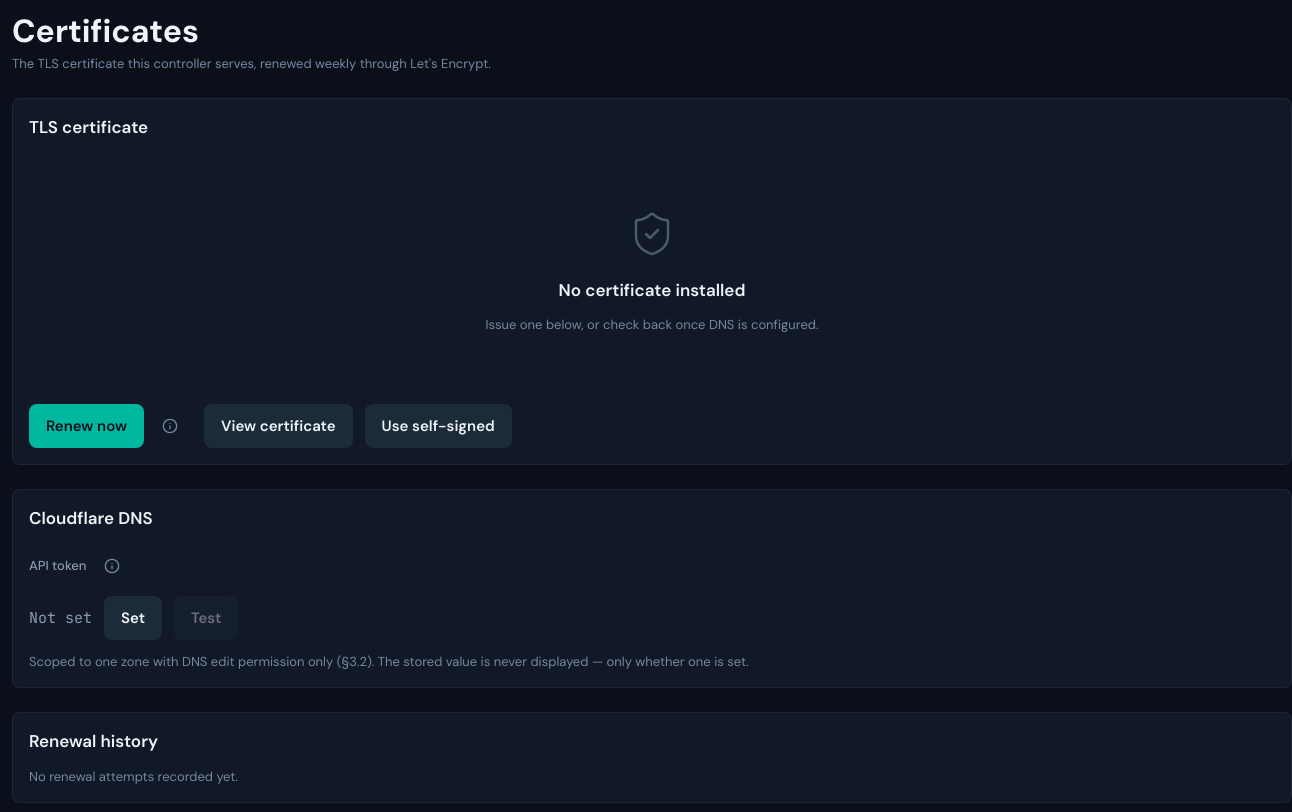
Scenario: CertificatesScreen gives every field and primary action help (spec §19.1) › the token field once Set opens it for editing
This screenshot has width=1292, height=812.
Click the button "Set".
click(133, 618)  # box [104,596,162,640]
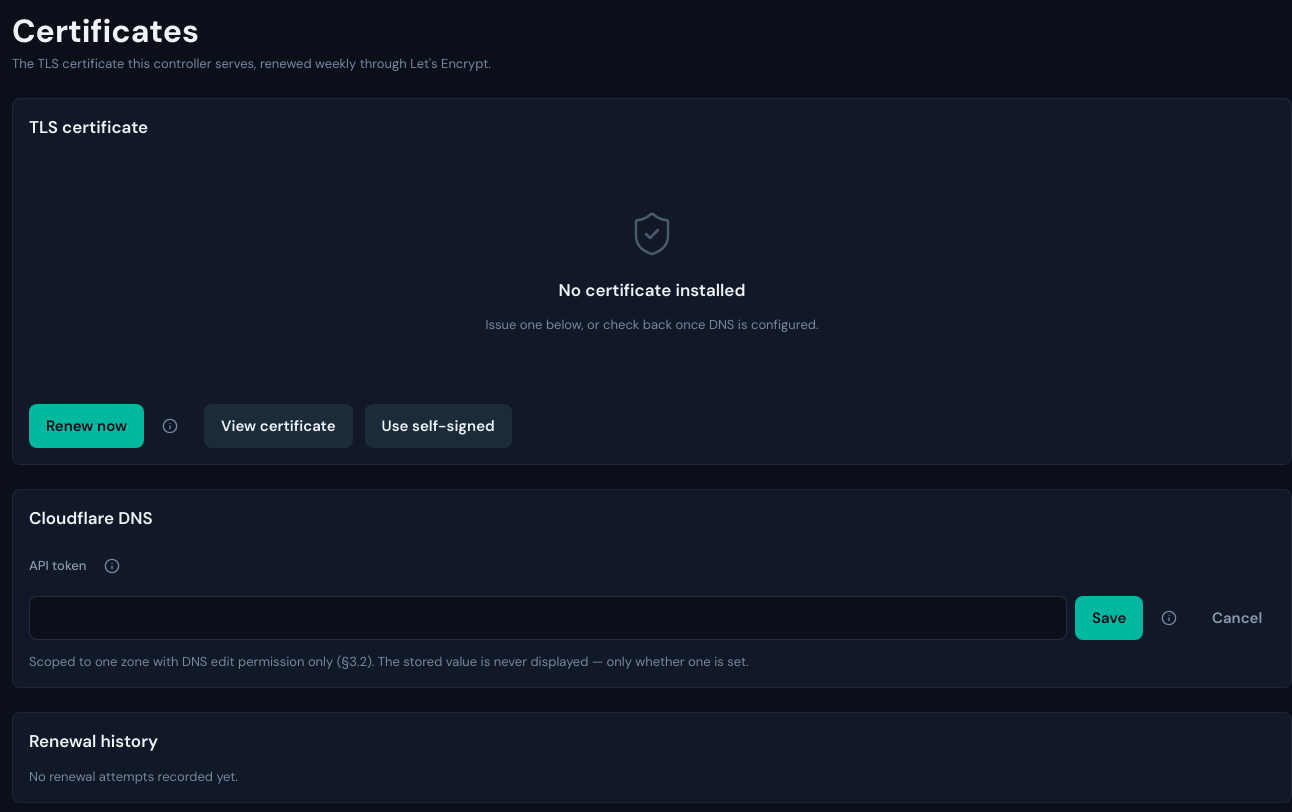
Expected: the button "Save" is shown, [1075,596,1143,640]
